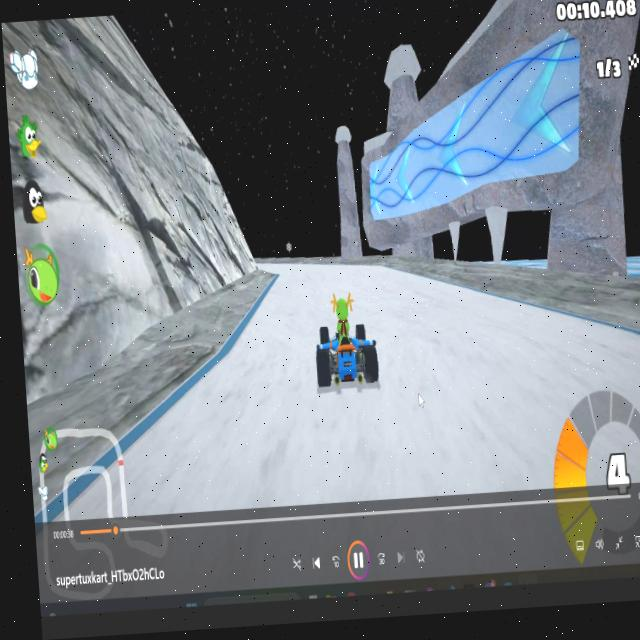player_kart: (303, 292, 385, 397)
track: (383, 287, 519, 501), (103, 445, 395, 518), (508, 334, 640, 486), (125, 399, 390, 463), (256, 302, 308, 399), (272, 271, 423, 301), (280, 268, 392, 289), (507, 305, 563, 344), (195, 375, 263, 406), (562, 312, 617, 343), (224, 352, 260, 378), (261, 257, 293, 275), (295, 260, 339, 273), (239, 329, 261, 354)
